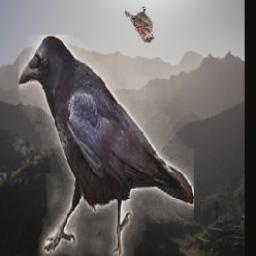Crow: (19, 35, 194, 256)
Sparrow: (124, 7, 154, 42)
